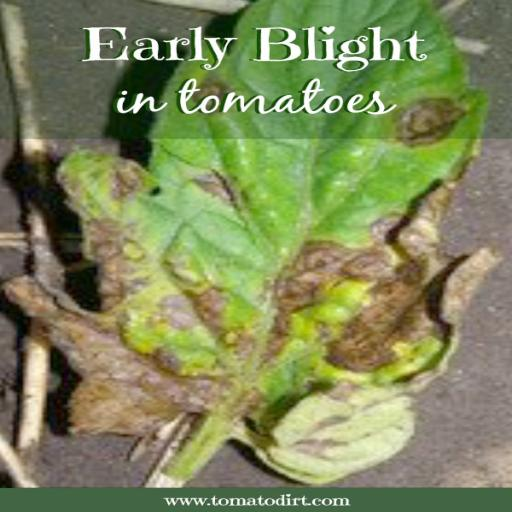disease_tomato: (38, 8, 492, 480)
